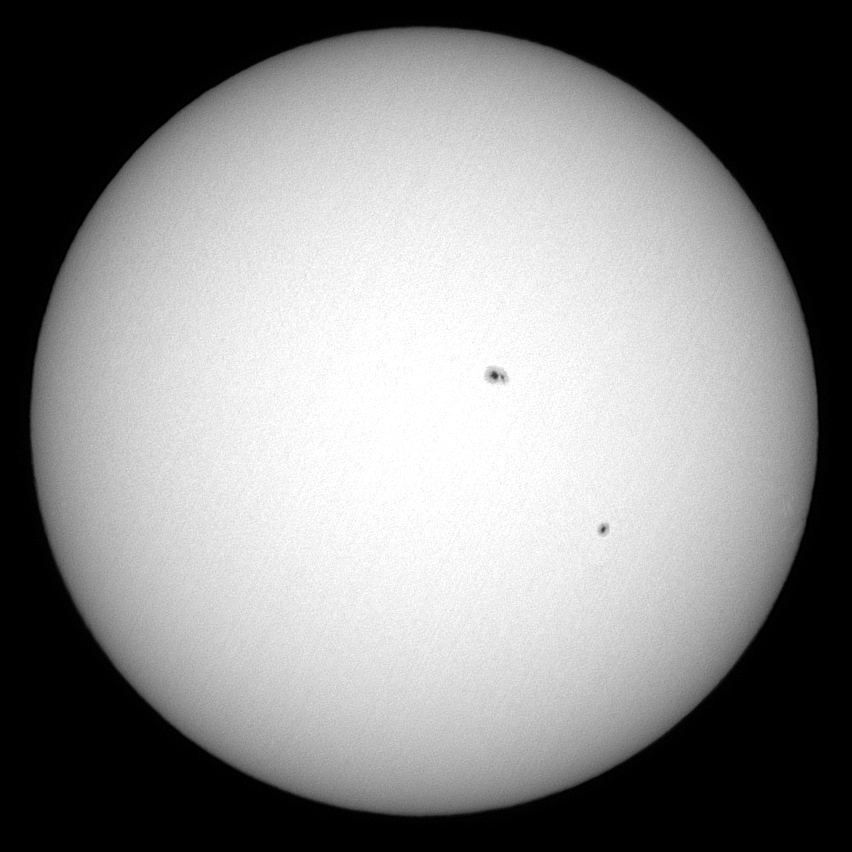sunspot: (483, 362, 509, 387), (594, 519, 612, 537)
